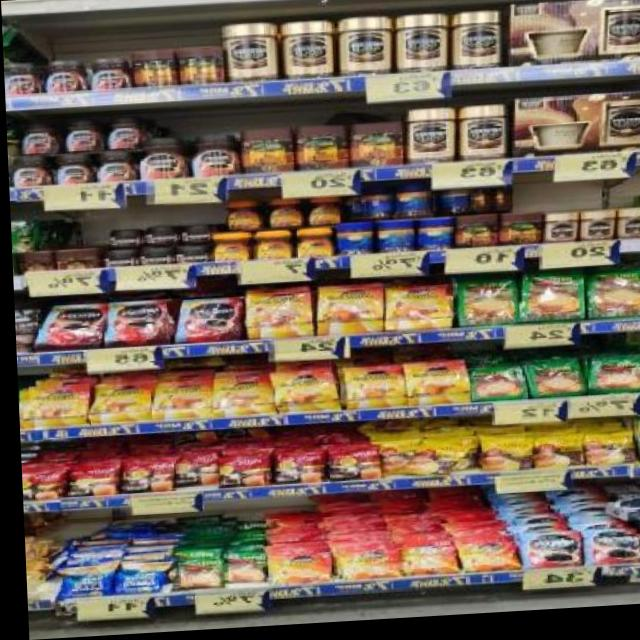Coffee: (35, 304, 105, 352), (393, 18, 447, 79), (243, 292, 308, 341), (313, 290, 378, 339), (223, 25, 275, 86), (173, 299, 240, 344), (383, 290, 447, 337), (104, 301, 166, 349), (449, 17, 499, 76), (339, 20, 388, 80), (282, 25, 332, 83), (403, 365, 466, 409), (17, 386, 81, 429), (457, 109, 506, 165), (341, 369, 401, 414), (406, 114, 454, 170), (271, 372, 331, 416), (88, 384, 149, 426), (147, 382, 208, 422), (209, 380, 269, 419), (516, 539, 576, 574), (579, 535, 636, 571), (263, 553, 323, 586), (188, 137, 236, 178), (339, 548, 394, 583), (135, 140, 181, 180), (457, 543, 510, 577), (396, 546, 450, 579), (20, 122, 60, 155), (88, 59, 127, 92), (63, 120, 102, 152), (2, 62, 40, 94), (95, 151, 133, 183), (11, 156, 49, 188), (45, 60, 82, 92), (540, 218, 577, 250), (577, 216, 614, 248), (52, 155, 89, 186), (209, 234, 248, 263), (103, 119, 138, 151), (251, 235, 288, 263), (224, 202, 257, 232), (295, 231, 330, 259), (306, 200, 339, 228), (266, 202, 298, 229), (615, 215, 640, 246), (174, 247, 208, 265), (142, 229, 174, 247), (137, 250, 169, 266), (105, 232, 139, 247), (179, 228, 207, 245), (102, 252, 132, 267)
